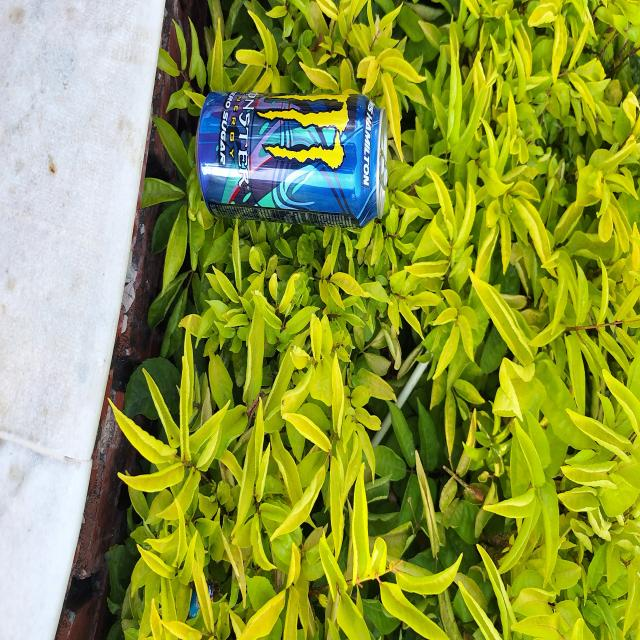Monster LH44: (194, 84, 389, 230)
